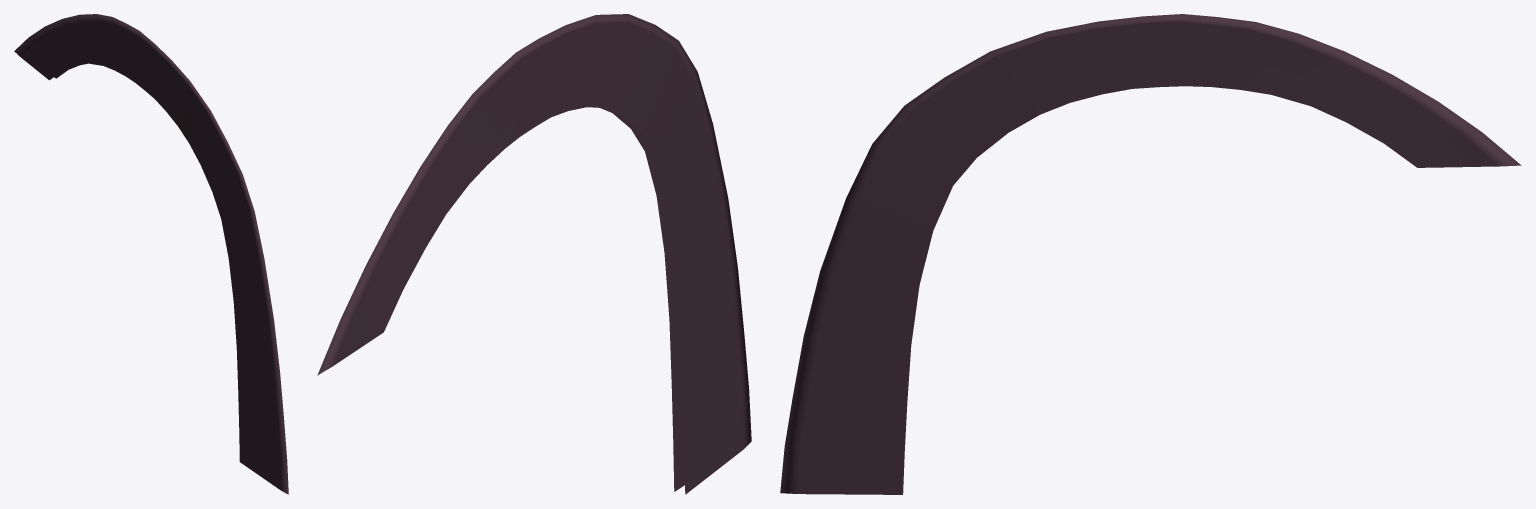
The model's file is witch_attack3_arc.FBX.
3 renders of one model, left to right at view 1: azimuth 30°, elevation 25°; view 2: azimuth 150°, elevation 25°; view 3: azimuth 270°, elevation 25°, orthographic. The views are drawn at different scales.
Parts seen in each view (by area): view 1: Arc001; view 2: Arc001; view 3: Arc001.
Part boxes in pixels (left/top/right/bottom): Arc001: left=14, top=14, right=288, bottom=494; Arc001: left=317, top=14, right=751, bottom=494; Arc001: left=780, top=14, right=1521, bottom=494.
Size of the model in its own units: 9.04 by 442 by 619.
